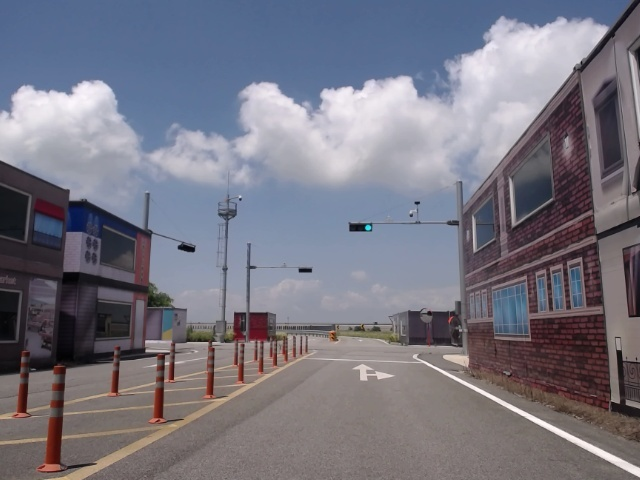green_3: (349, 224, 373, 232)
